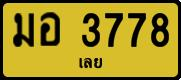letters: (12, 12, 36, 48), (38, 11, 61, 47), (80, 12, 101, 48), (103, 12, 124, 48), (126, 12, 147, 48), (150, 12, 170, 49)
province: (77, 56, 104, 70)
